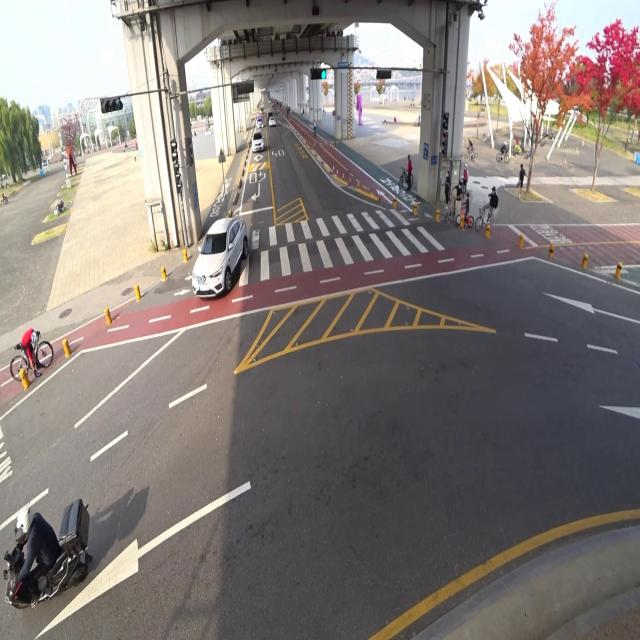Car: (180, 196, 256, 312), (252, 132, 266, 161), (255, 114, 265, 134), (268, 114, 277, 130), (266, 109, 274, 118)
Motorcycle: (2, 502, 88, 610)
